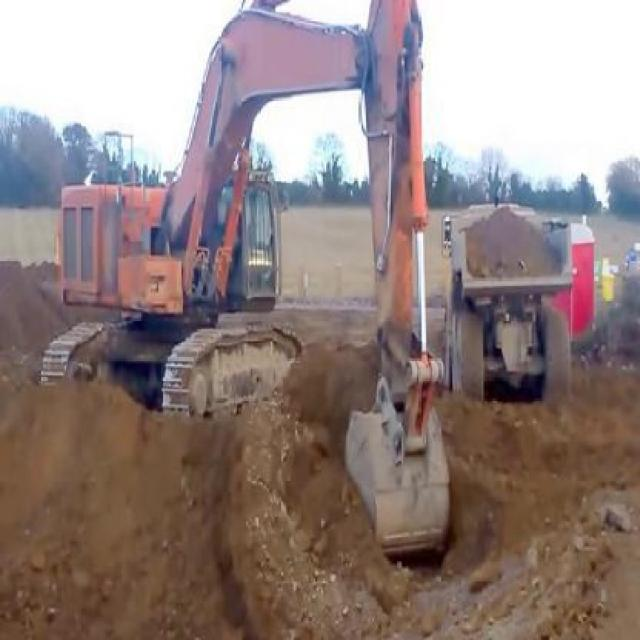Dump Truck: (445, 196, 572, 409)
Excavator: (33, 1, 449, 567)
